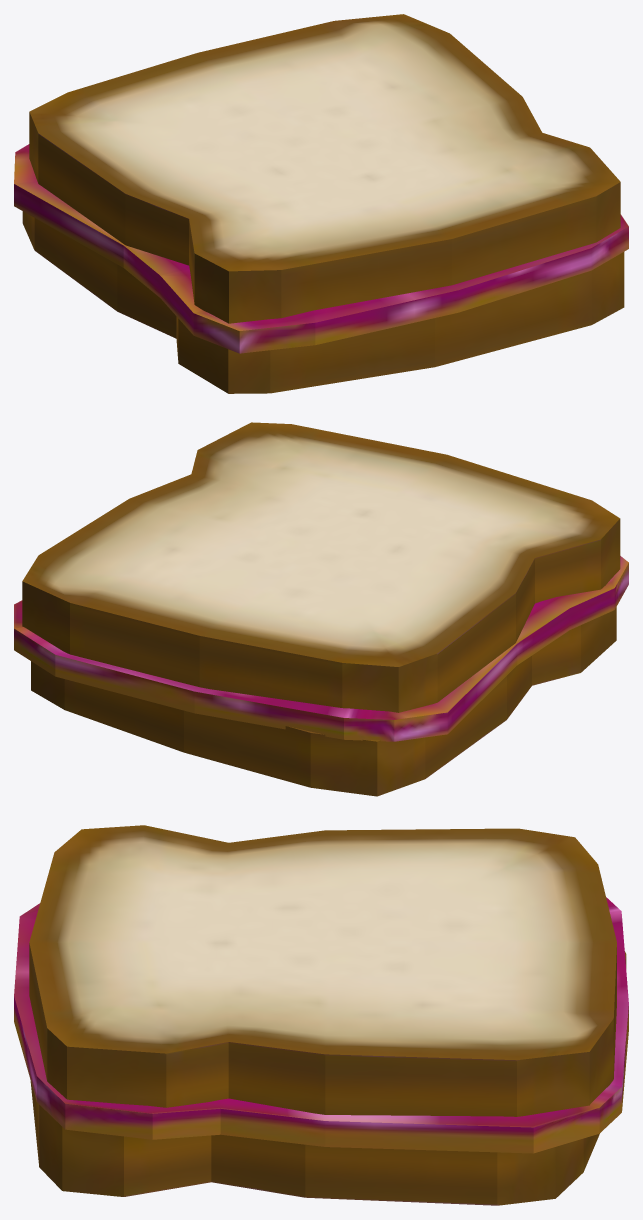
Rendered from PBJ.fbx.
3 views of the same model, one above another, from view 1: azimuth 30°, elevation 25°; view 2: azimuth 150°, elevation 25°; view 3: azimuth 270°, elevation 25° (orthographic). The views are drawn at different scales.
Parts seen in each view (by area): view 1: Object; view 2: Object; view 3: Object.
Boxes of the visible parts, x1,y1,x2,y2 form: Object: [14, 14, 628, 393]; Object: [14, 422, 628, 796]; Object: [14, 825, 628, 1205].
Size of the model in its own units: 160 by 42.75 by 166.
Materials: 1 (1 with a texture image).
